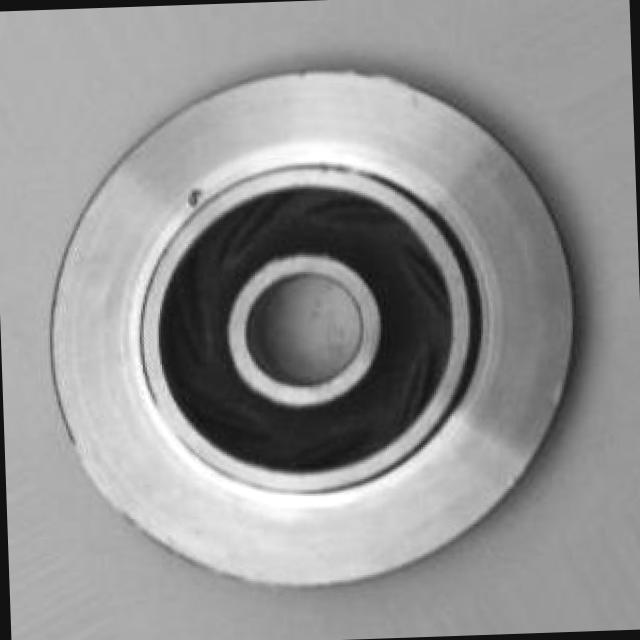Defect: (184, 185, 207, 210)
